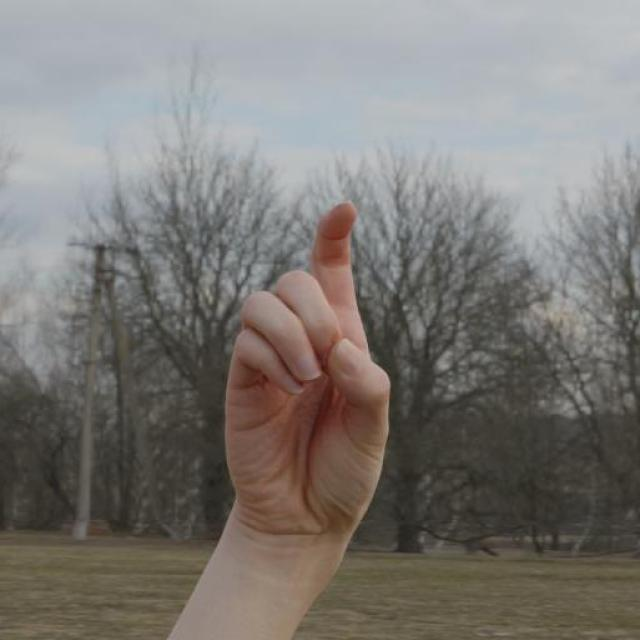X: (217, 192, 391, 546)
